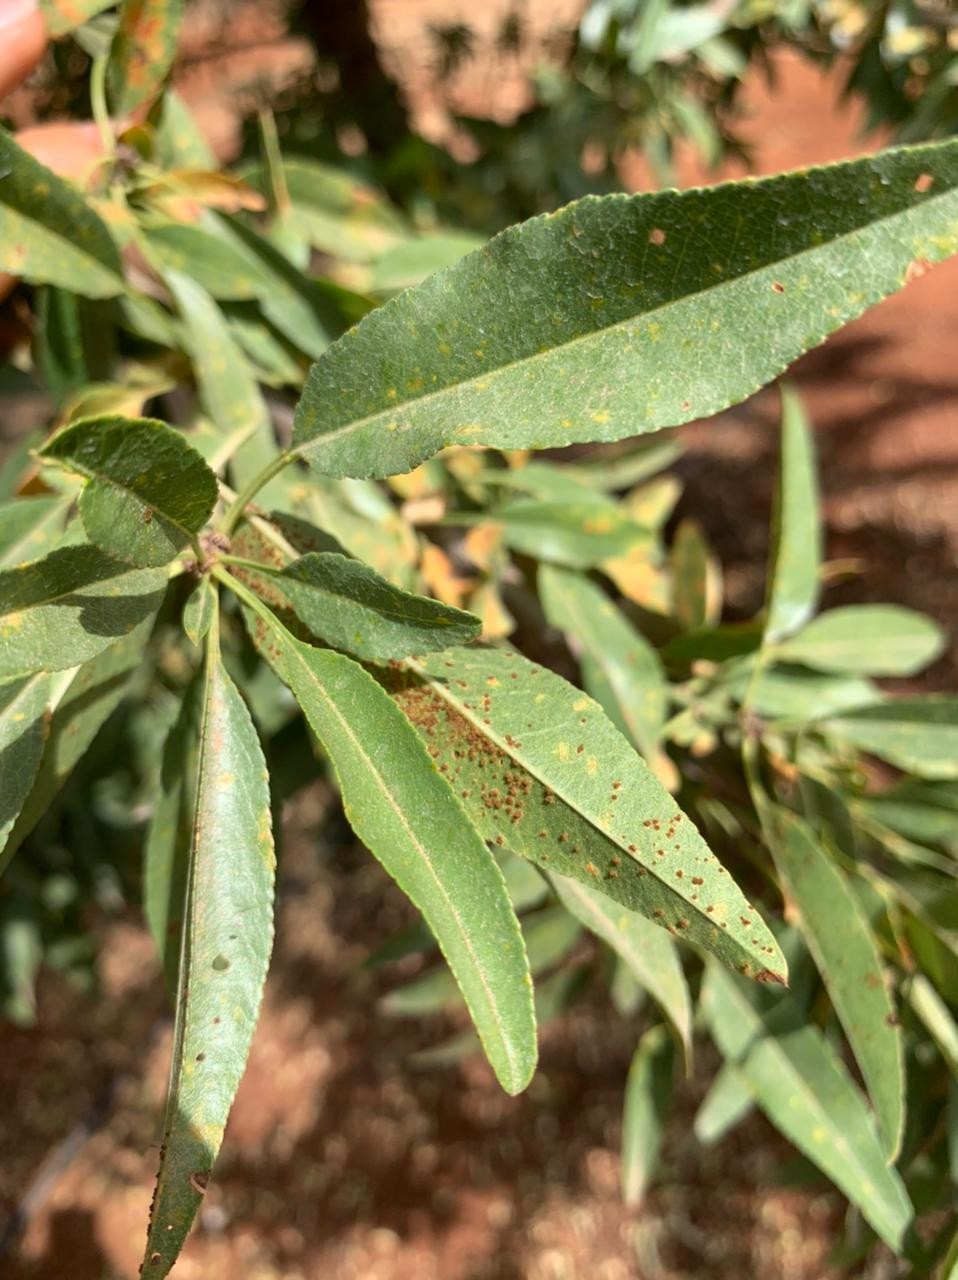rouille: (289, 135, 958, 483), (241, 596, 537, 1091), (379, 640, 793, 992), (141, 661, 279, 1280), (756, 795, 908, 1167), (28, 415, 223, 571)
